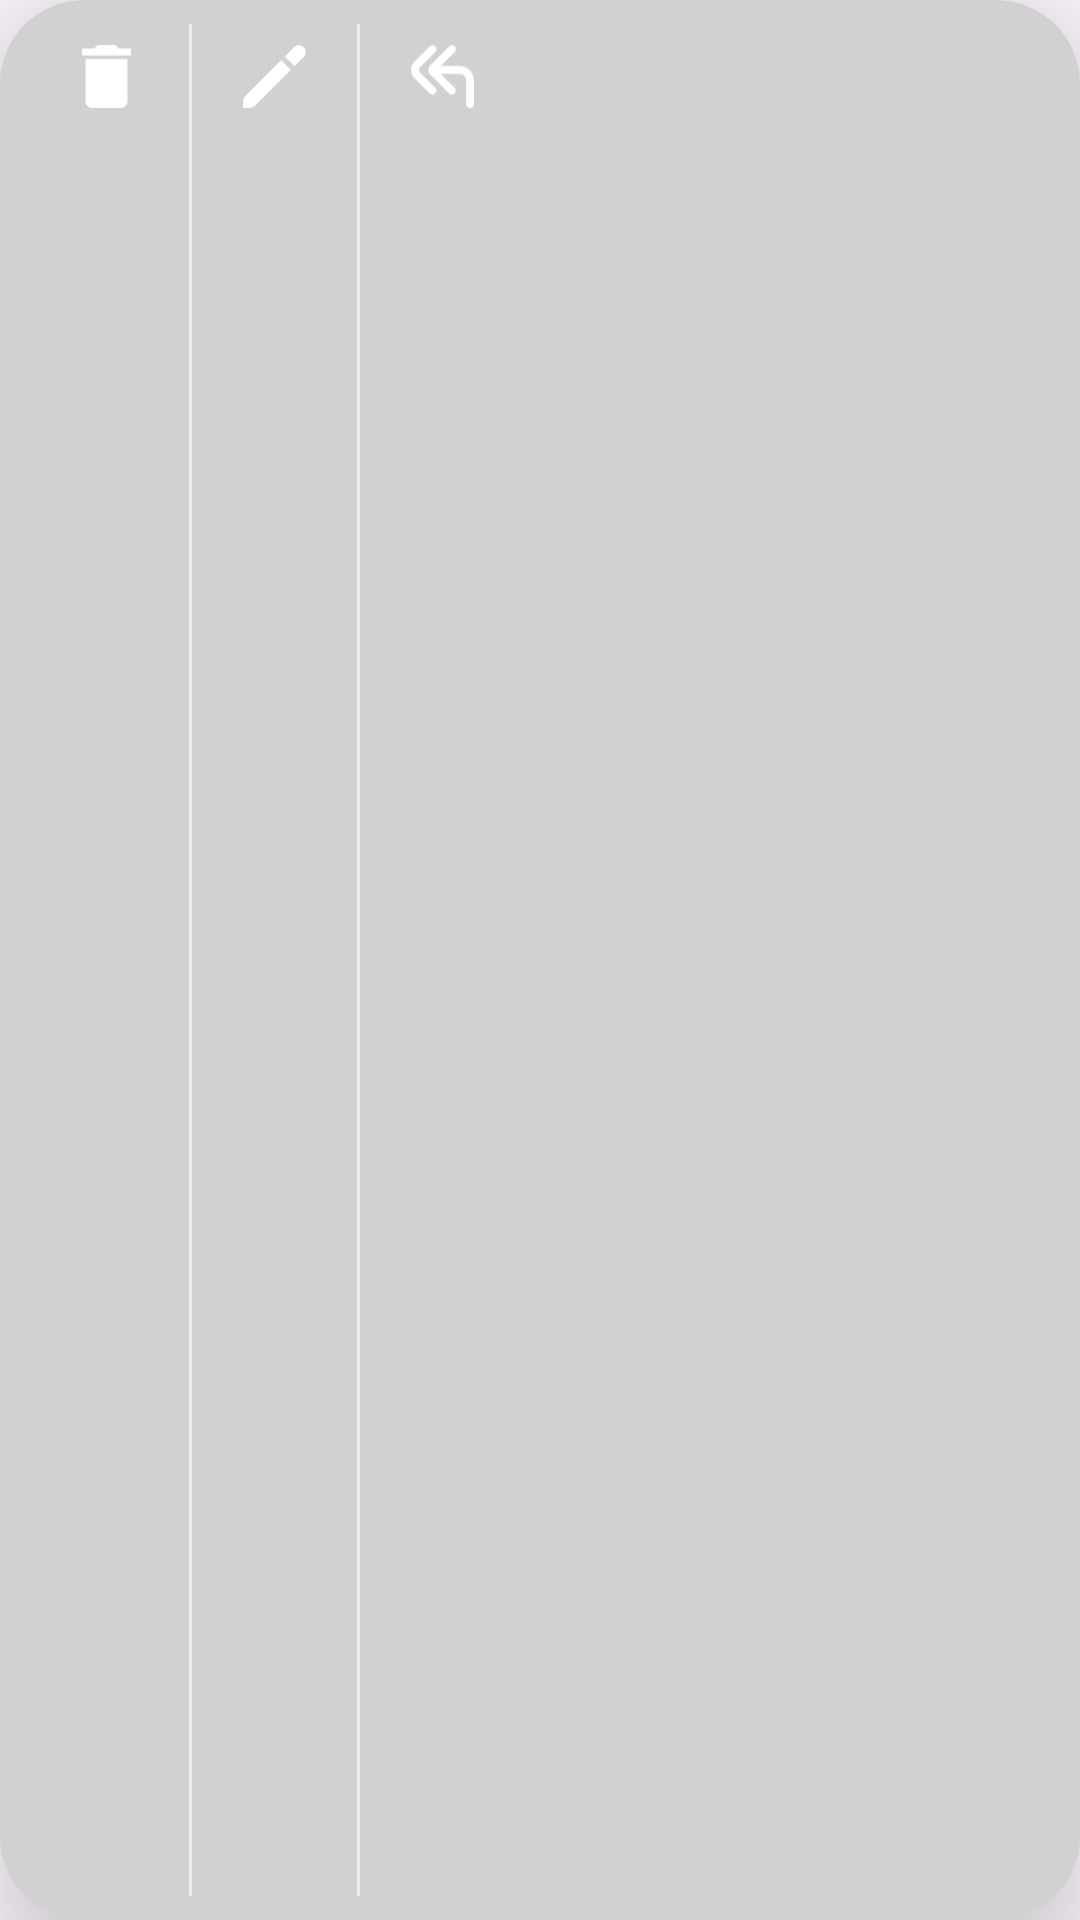

Where to tap for icons on this 1080×1920 app screen, as (x=x, y=y):
edit message: (x=274, y=76)
reply: (x=442, y=76)
